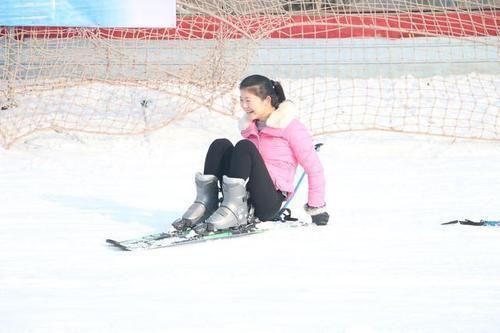Fall-Detected: (165, 67, 337, 238)
